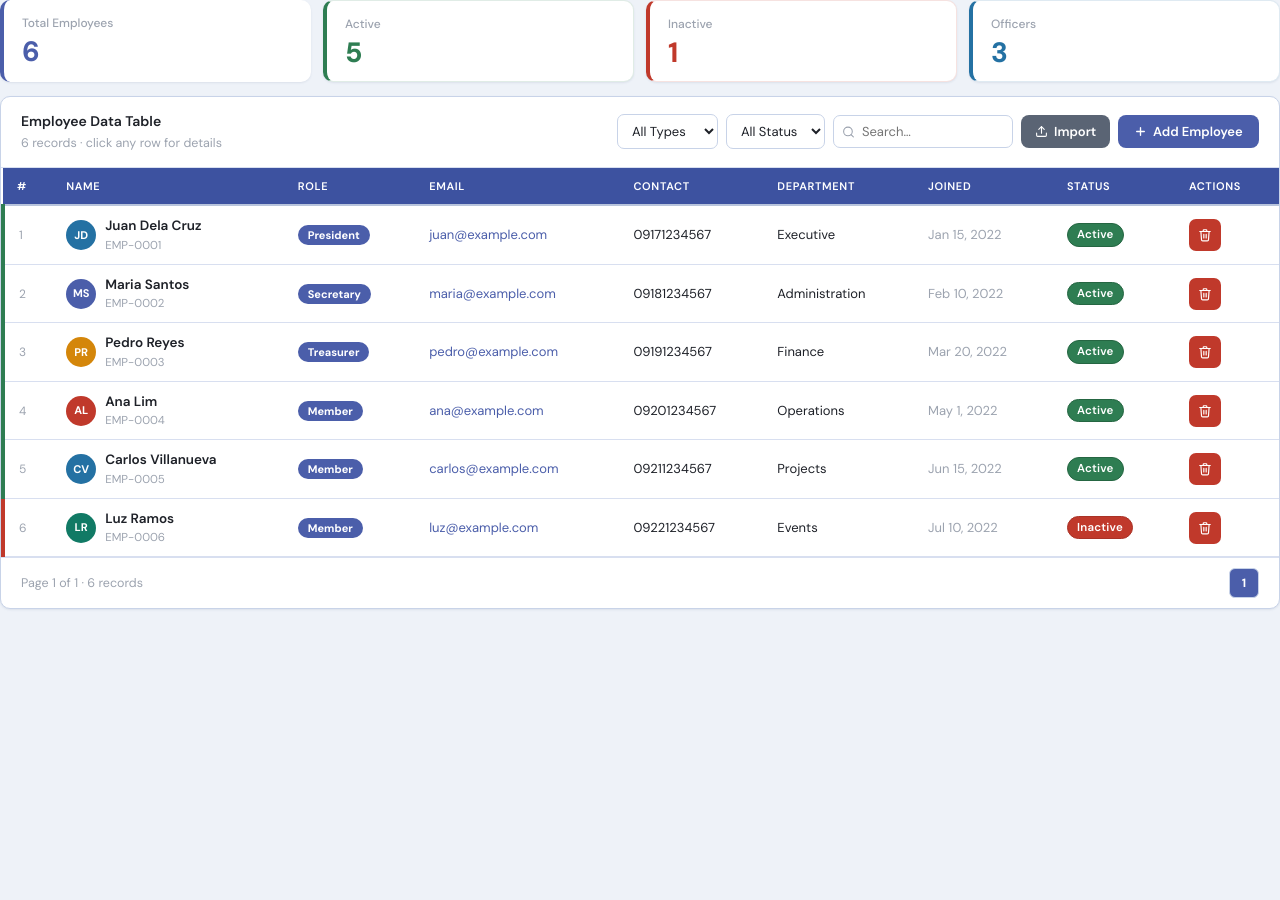
Test: edit/save flows › Employees: delete removes the row and shows the confirmation message
This screenshot has width=1280, height=900.
Click the button titled "Delete" in the row of "JD" at (1205, 235), box [1189,219,1221,251]
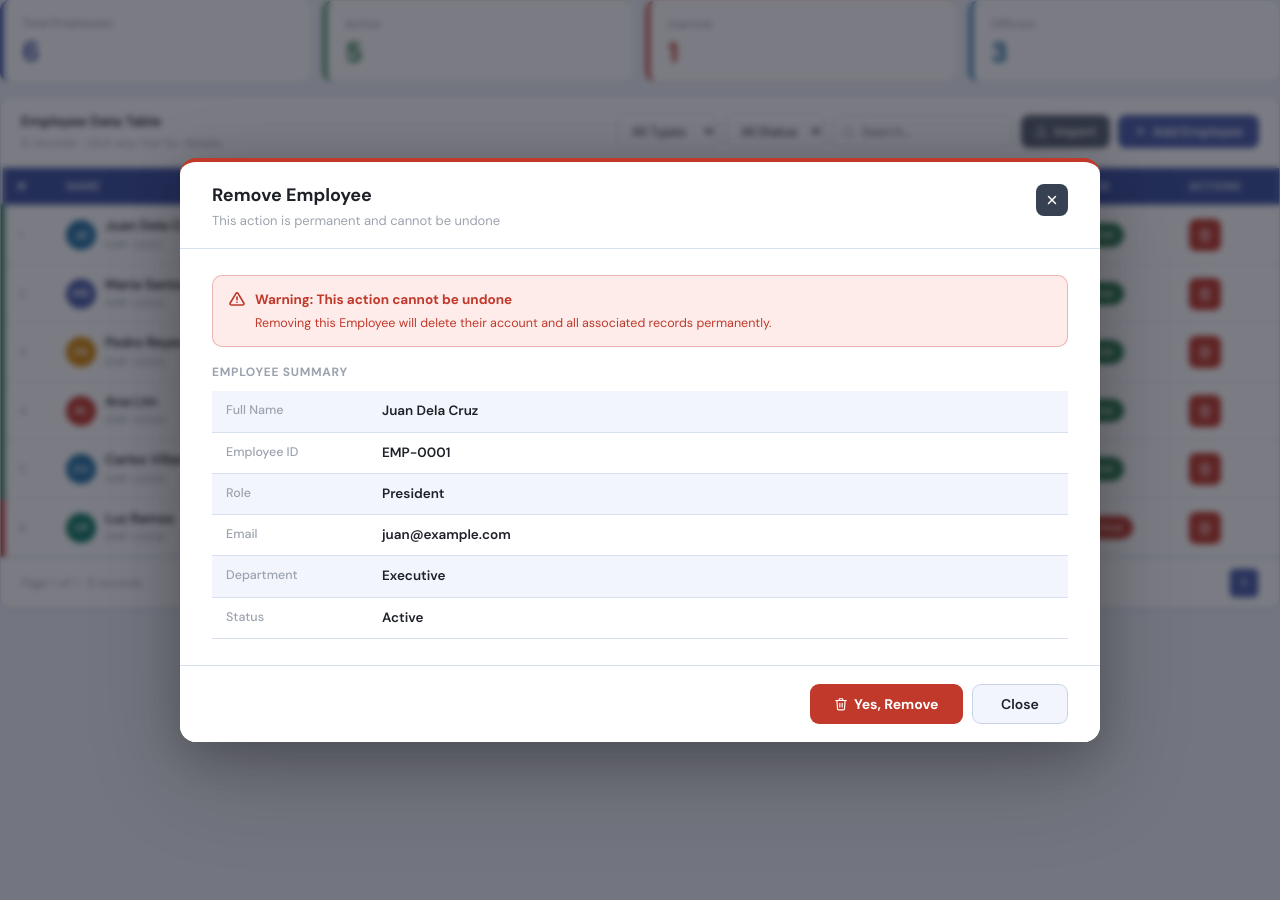
Click the button "Yes, Remove" at (886, 704), box [810,684,962,724]
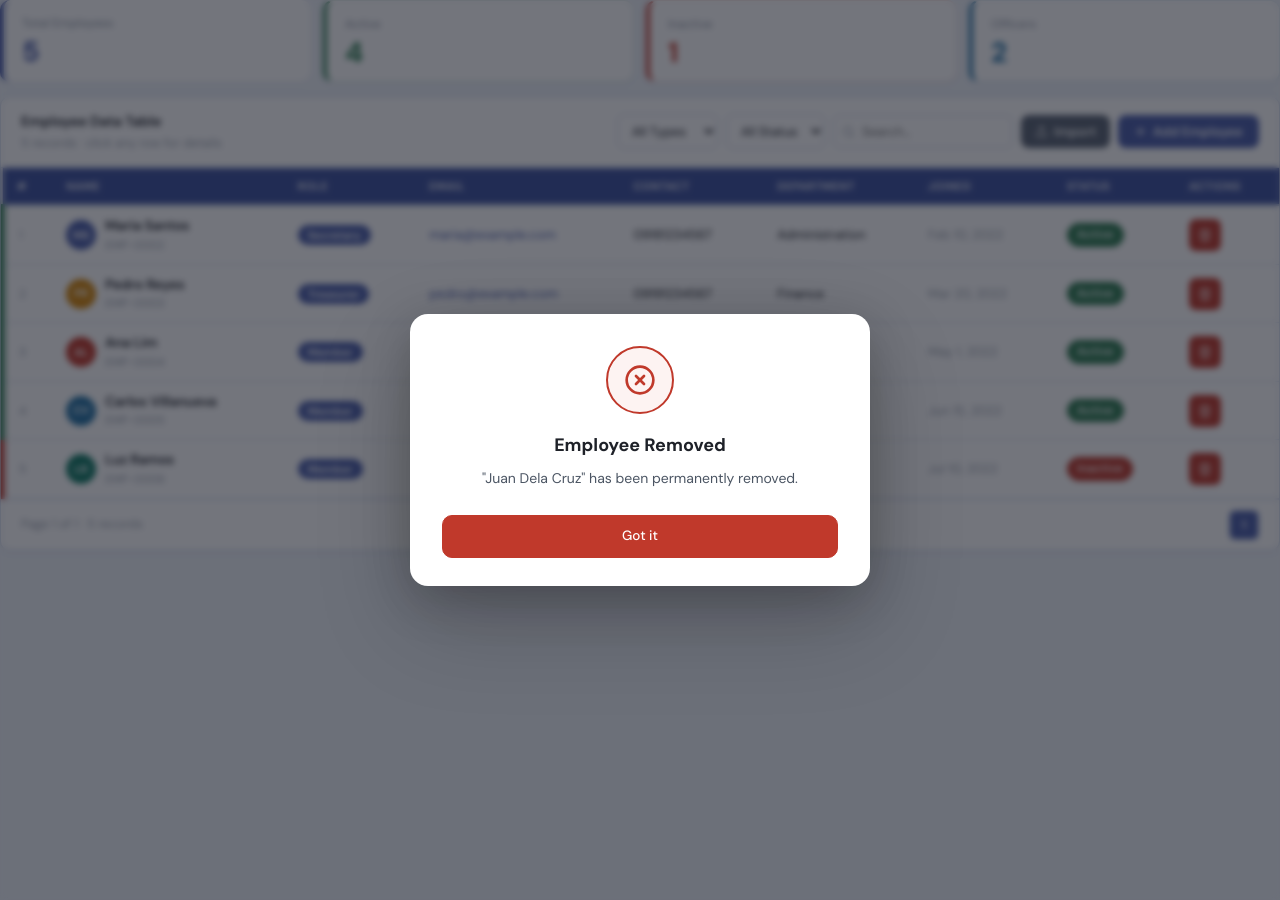
Now the text "\"Juan Dela Cruz\" has been permanently removed." is shown, box [470,467,810,491]
